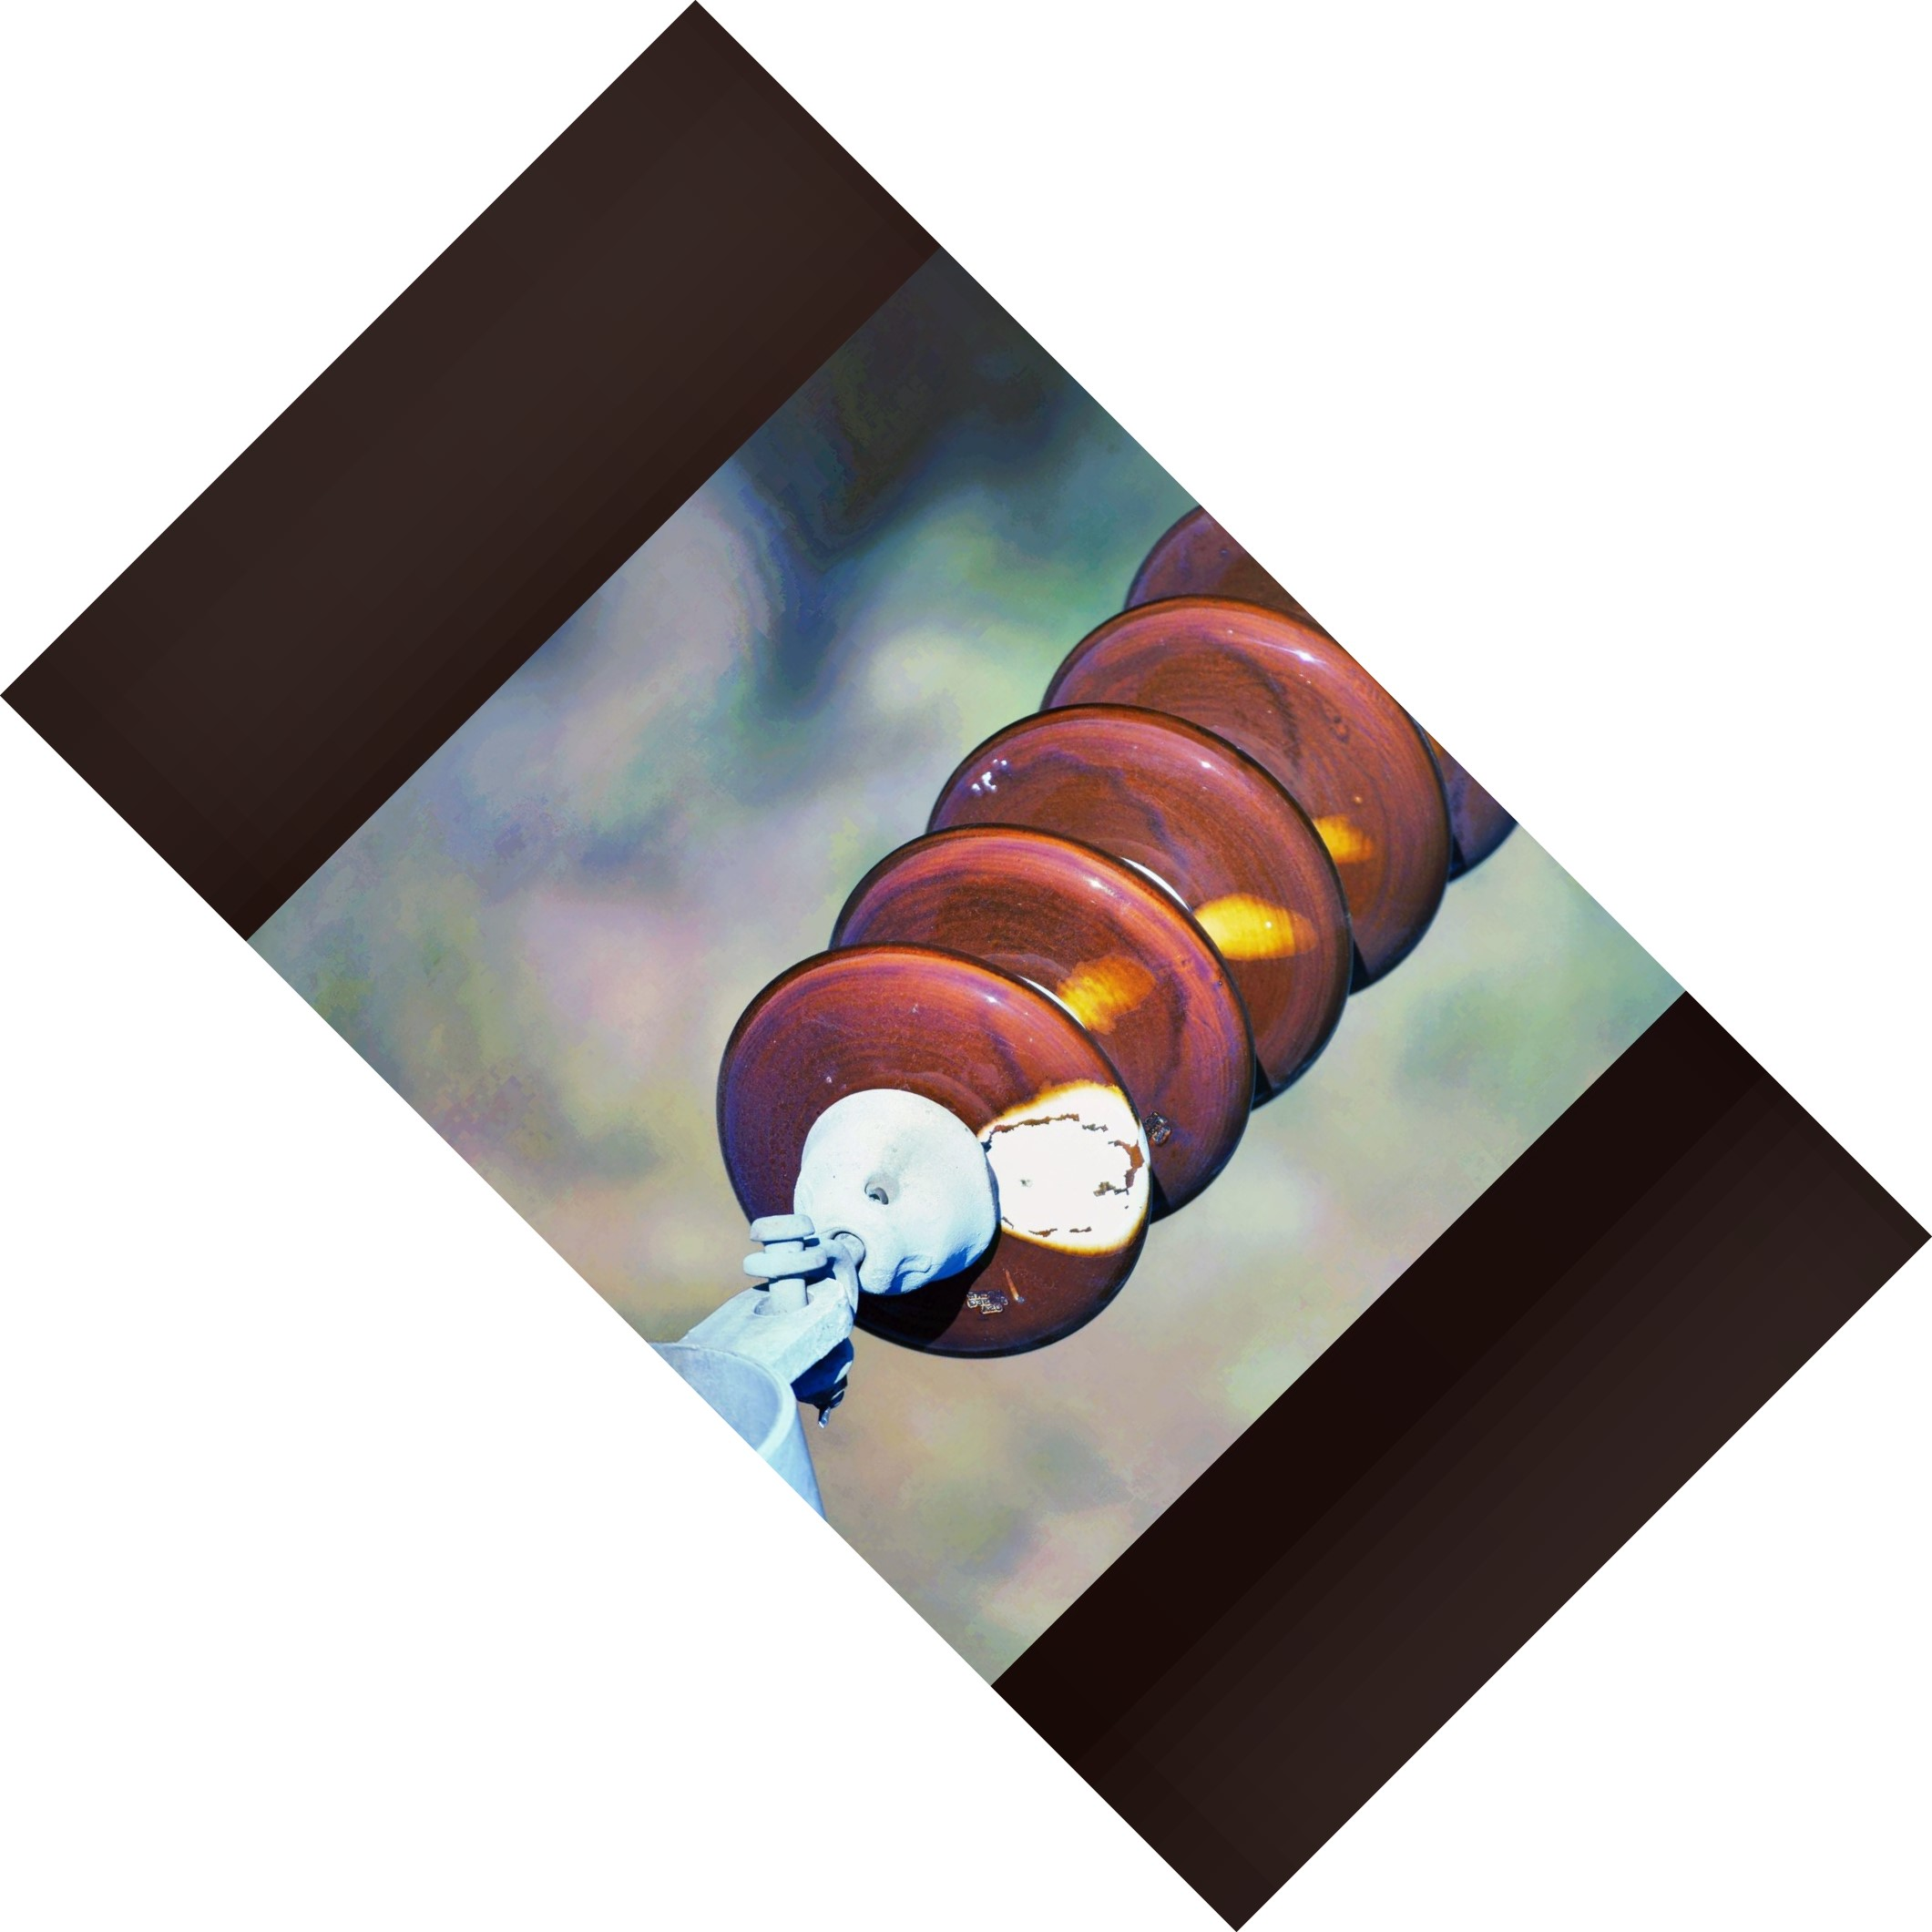Insulator flashover: (694, 922, 1168, 1368)
